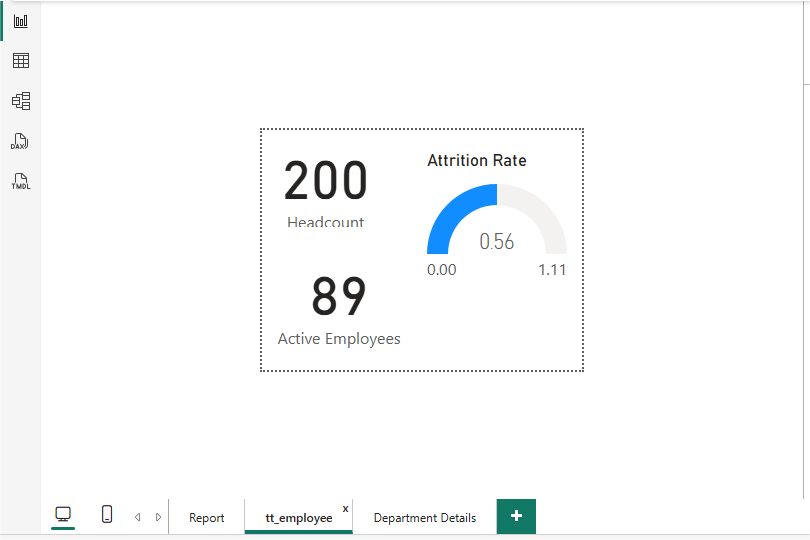

The dashboard page shown, as its layout file describes it:
{"tool":"powerbi","page":{"name":"tt_employee","canvas":[320,240],"ordinal":1},"visuals":[{"type":"card","fields":{"Values":["Date.Headcount"]},"box":[7,5,113,97],"z":0},{"type":"gauge","fields":{"Y":["Date.Attrition Rate"]},"box":[160,20,150,150],"z":1000},{"type":"card","fields":{"Values":["Date.Active Employees"]},"box":[6,114,142,111],"z":2000}]}

Visuals, with their boxes on the page's 320x240 design canvas (x1, y1, x2, y2). These are canvas units, not pixel positions in the 810x540 screenshot, which may show the page scaled, cropped or inside an application window:
card - Date.Headcount: <box>7,5,120,102</box>
gauge - Date.Attrition Rate: <box>160,20,310,170</box>
card - Date.Active Employees: <box>6,114,148,225</box>
